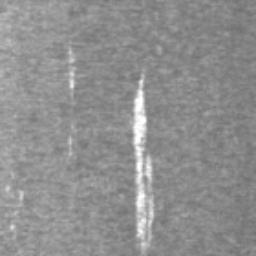White rust: (133, 70, 154, 242), (68, 43, 76, 94)
